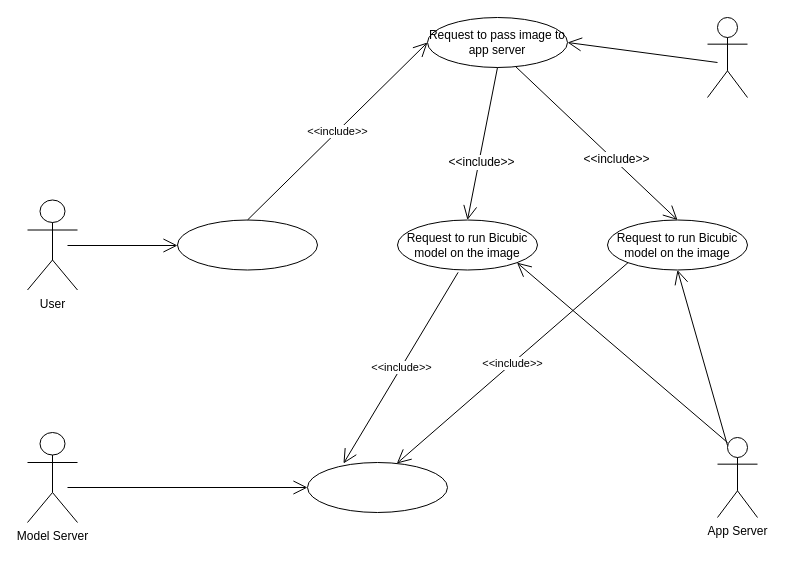
Some shapes in this 785 by 561 pixel diagram are drawn without their labels. The centre of each missing label's shape, as x and y in pixels:
"Choose image to upload" belongs at point (247, 244).
"Generate Bicubic and GAN images" belongs at point (377, 487).
"User Interface" belongs at point (727, 57).
